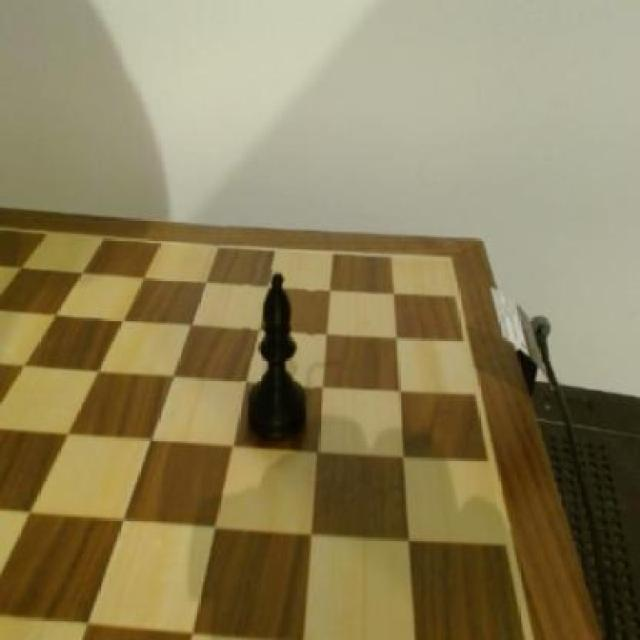bishop: (240, 269, 315, 447)
